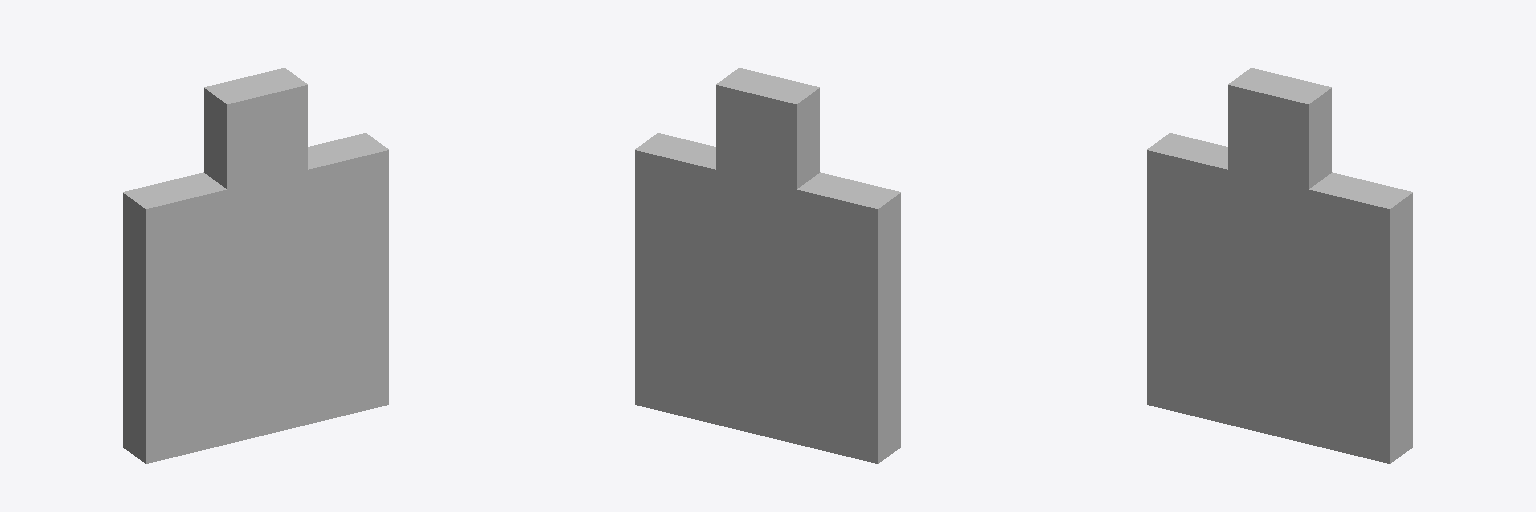
File: 04_cave_01_door_2X.obj
3 renders of one model, left to right at view 1: azimuth 30°, elevation 25°; view 2: azimuth 150°, elevation 25°; view 3: azimuth 330°, elevation 25°, orthographic.
Size of the model in its own units: 6 by 8 by 1.